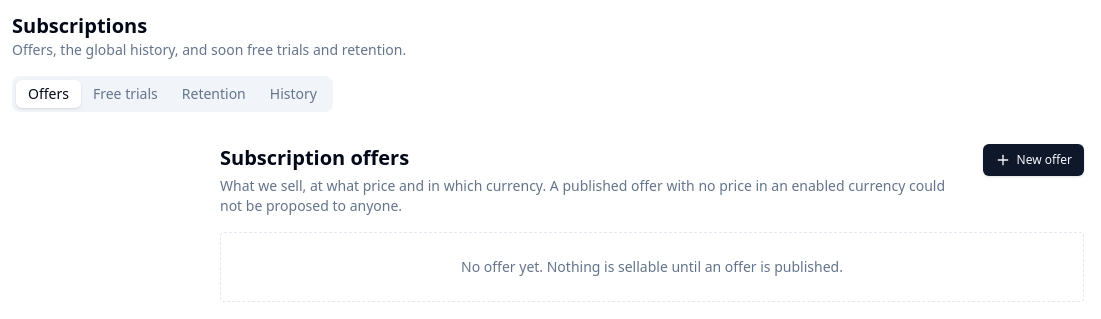
Test: AdminAbonnements › les onglets pas encore cadrés le disent, sans simuler de contrôle
Step 1. Click the tab "Free trials" → (125, 94), box [81,80,170,108]
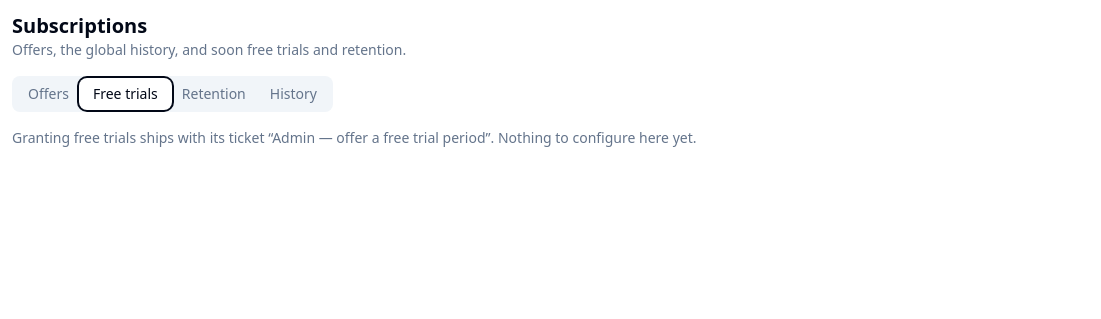
Result: the text "Granting free trials ships with its ticket “Admin — offer a free trial period”. Nothing to configure here yet." is shown at [12,128,696,147]
Step 2. Click the tab "Retention" → (214, 94), box [170,80,258,108]
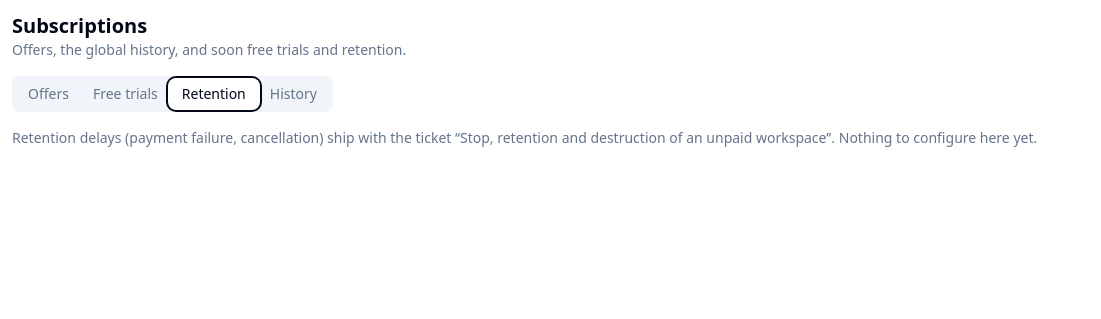
Result: the text "Retention delays (payment failure, cancellation) ship with the ticket “Stop, retention and destruction of an unpaid work" is shown at [12,128,1037,147]
